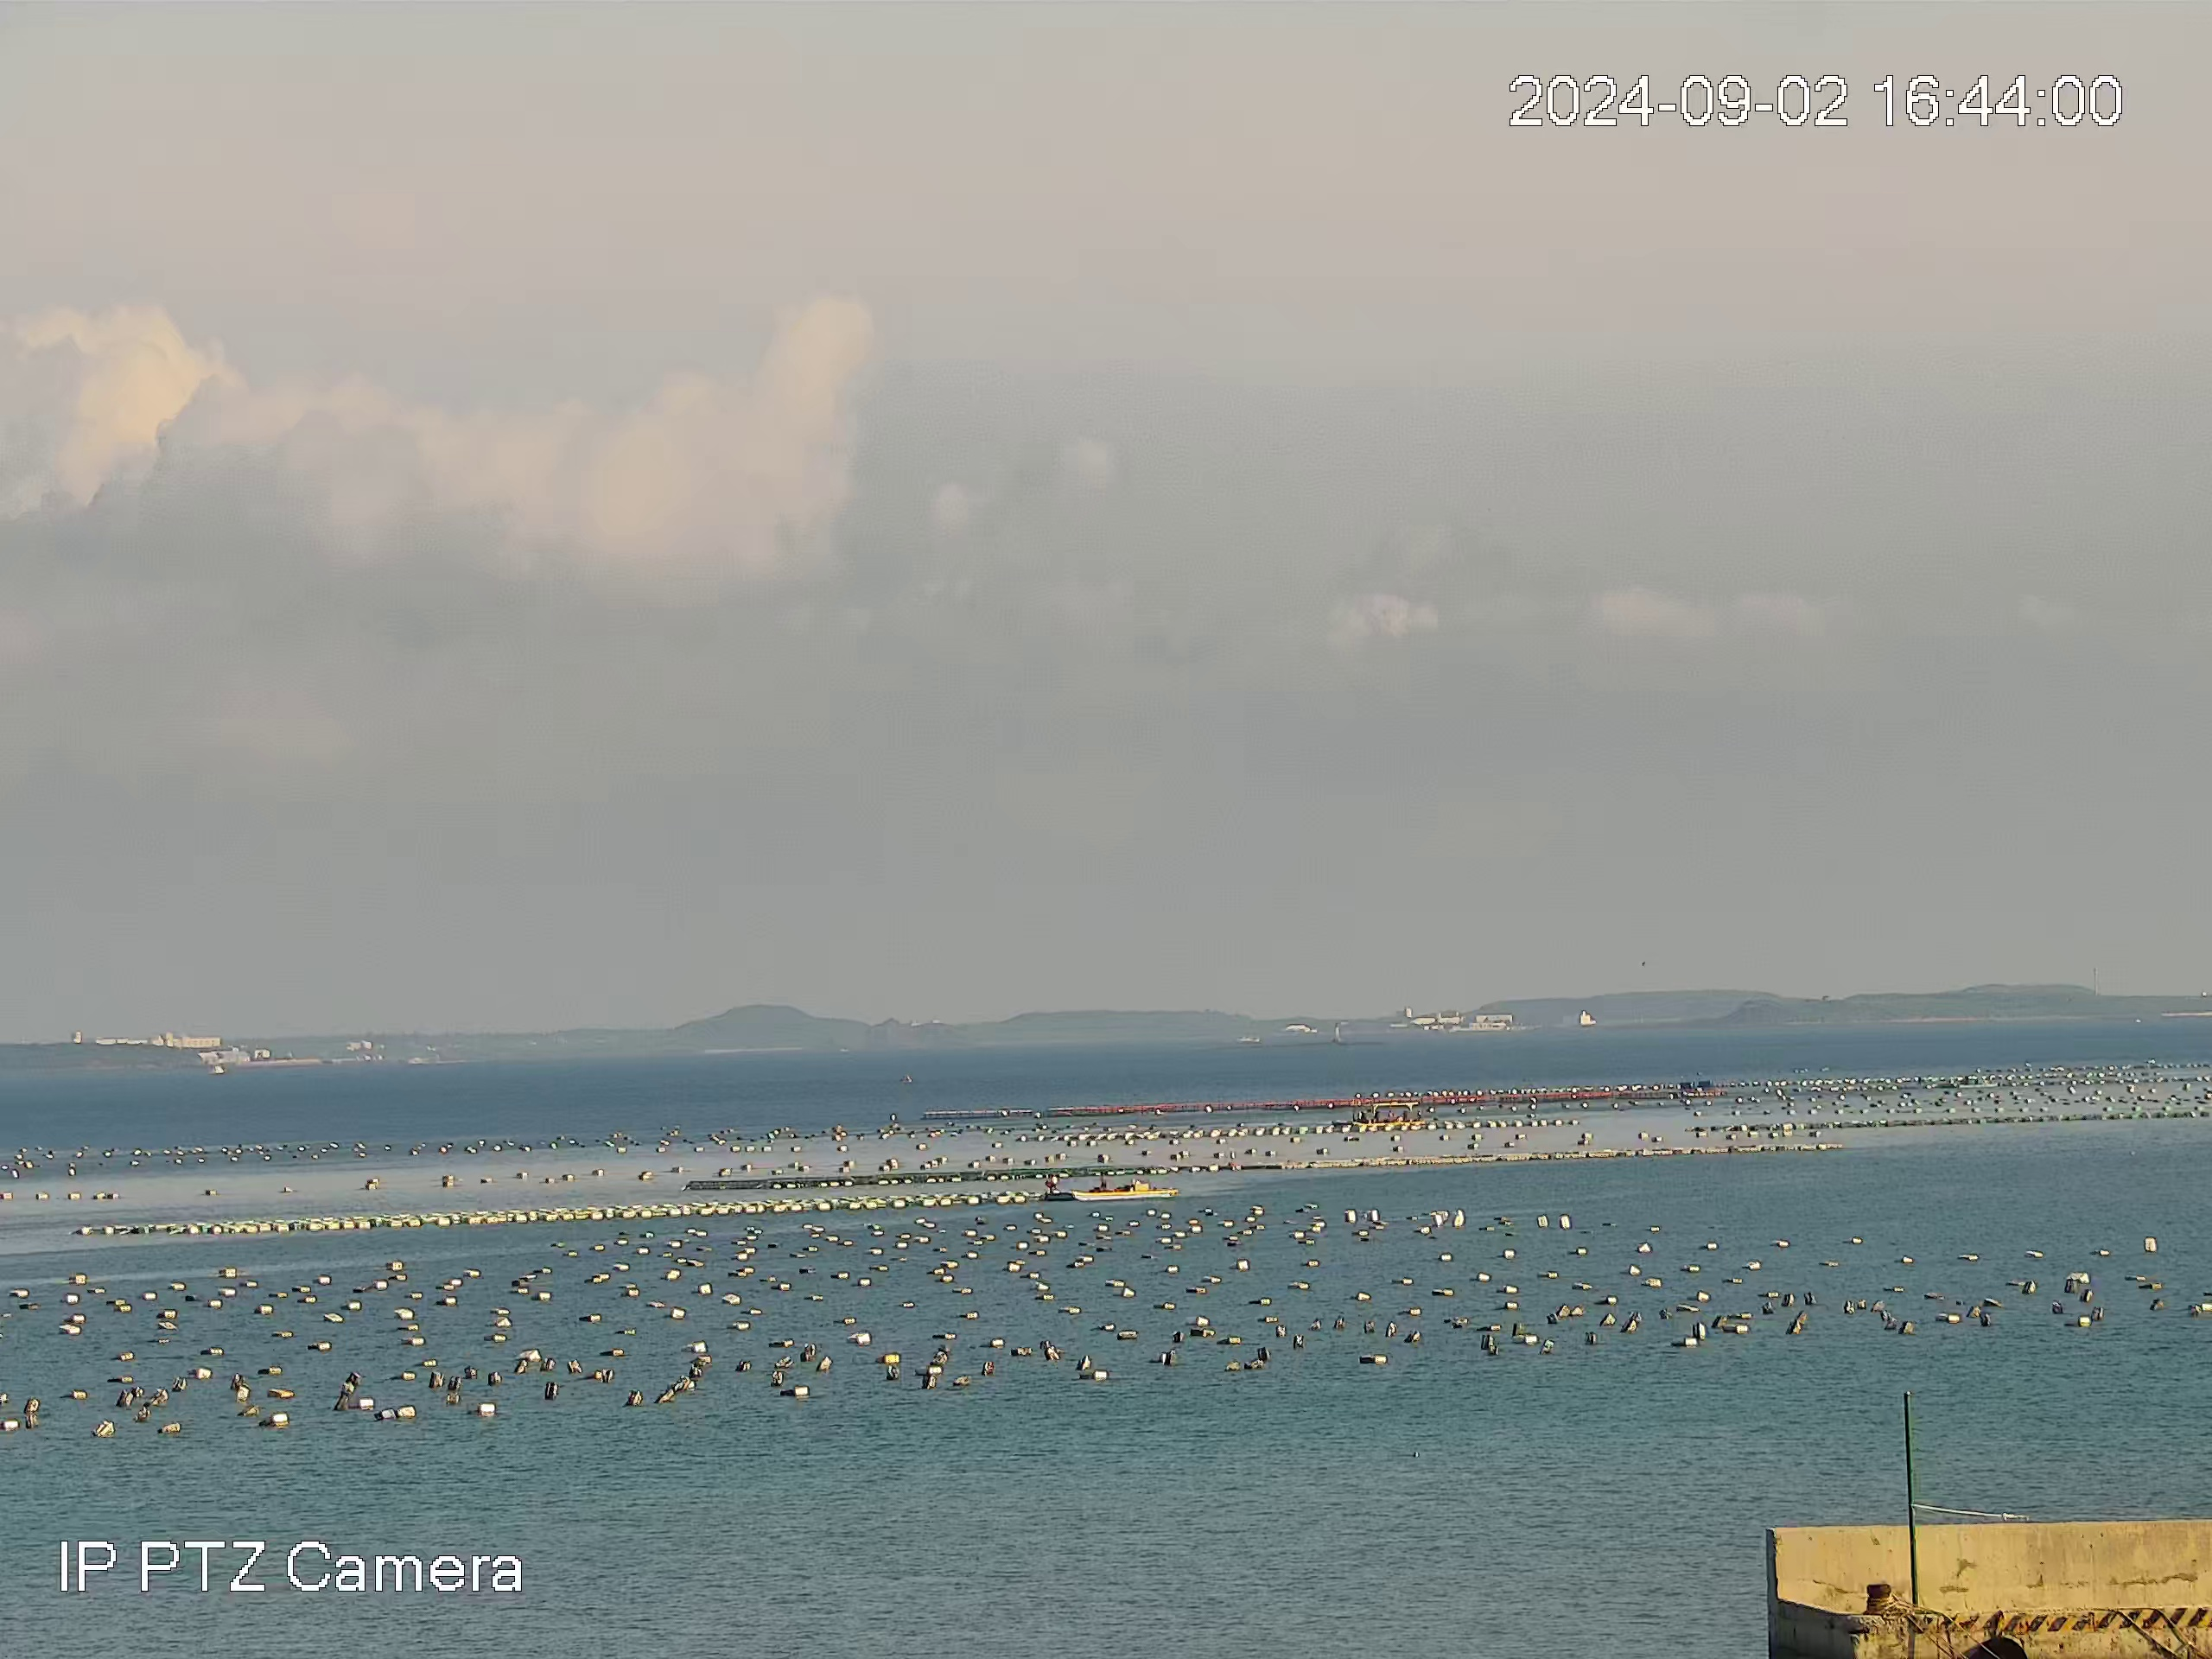boat: (1042, 1171, 1180, 1202), (1349, 1101, 1426, 1127)
